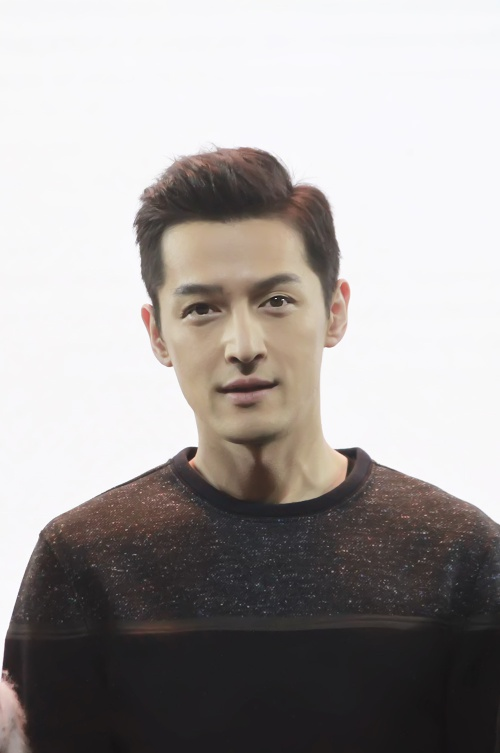male: (105, 134, 432, 511)
